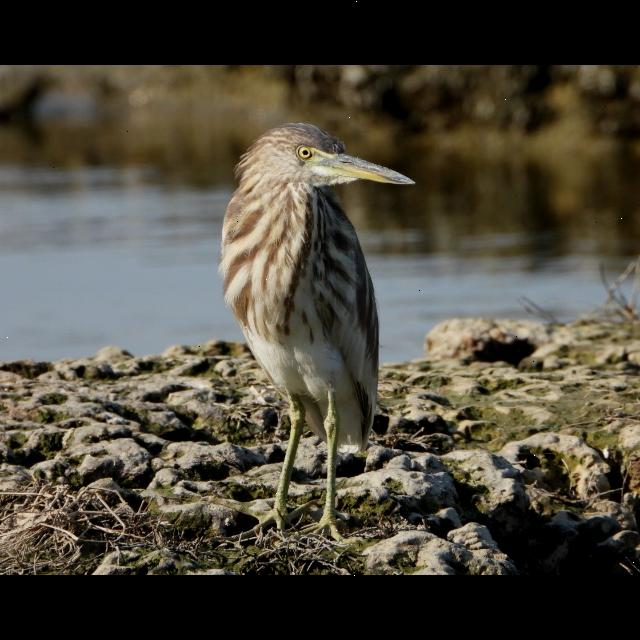heron: (220, 116, 422, 548)
